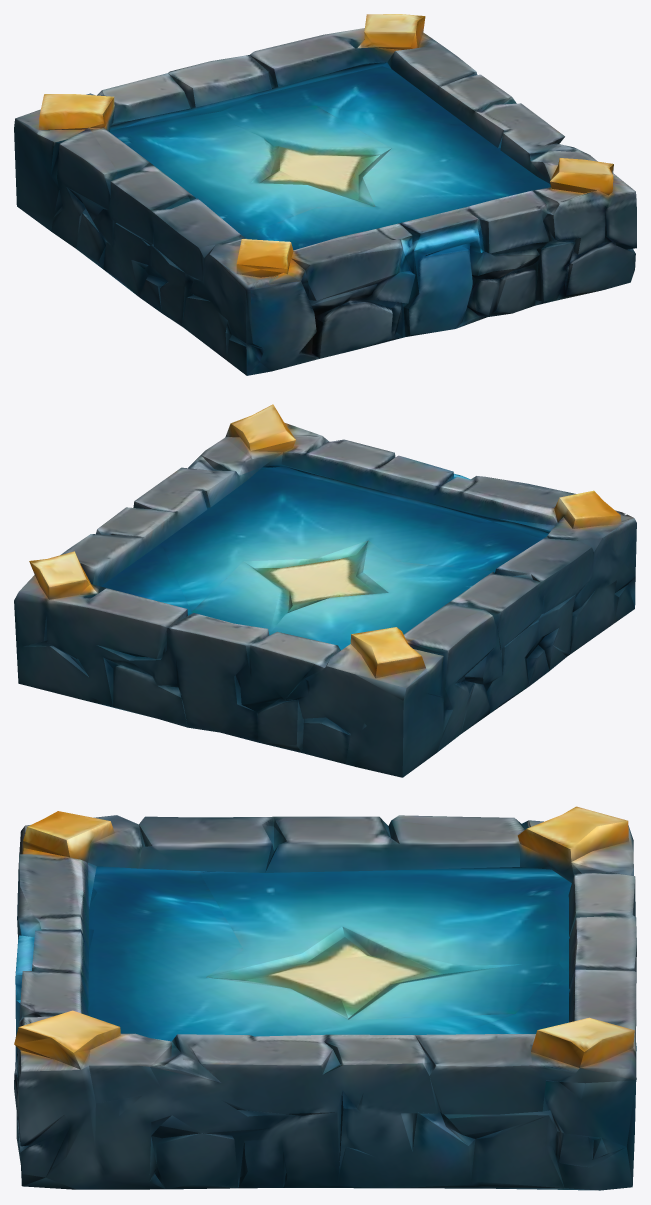
The model's file is bouncePad.glb.
3 views of the same model, one above another, from view 1: azimuth 30°, elevation 25°; view 2: azimuth 150°, elevation 25°; view 3: azimuth 270°, elevation 25° (orthographic). The views are drawn at different scales.
Parts seen in each view (by area): view 1: model; view 2: model; view 3: model.
Boxes of the visible parts, left/top/right/bottom form: model: left=14, top=14, right=636, bottom=375; model: left=14, top=404, right=636, bottom=777; model: left=14, top=806, right=636, bottom=1190.
Size of the model in its own units: 1.81 by 0.4998 by 1.89.
1 material, 1 textured.
